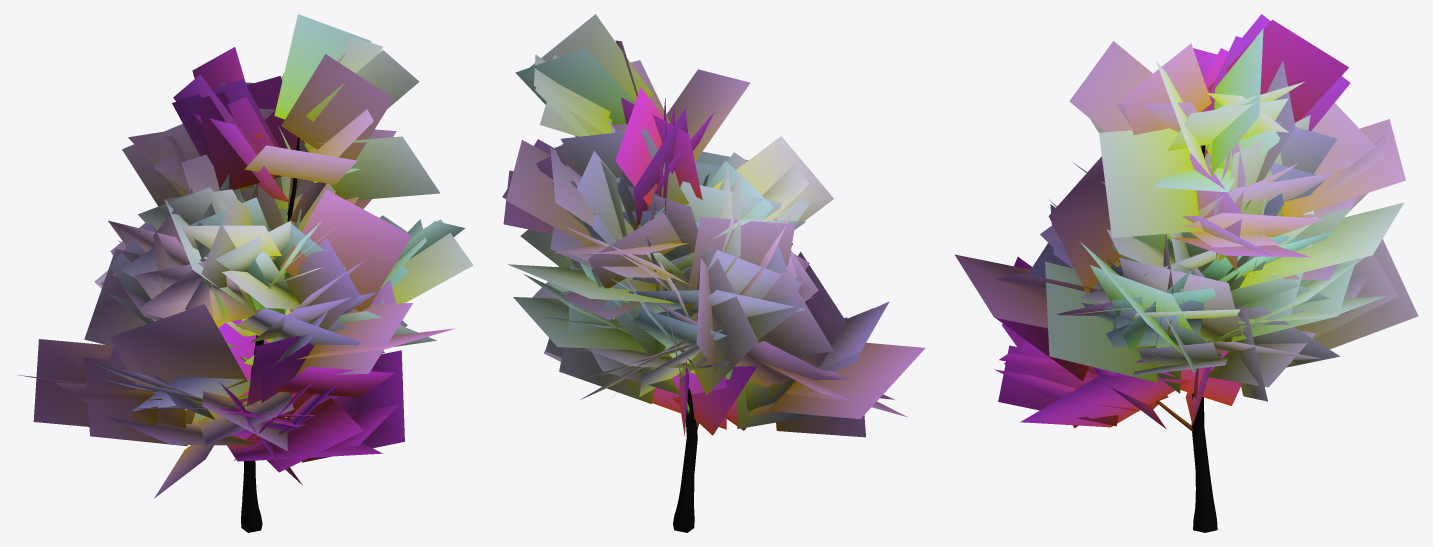
The model's file is tree_ginkgo_a_lod1.glb.
The picture shows the model from 3 angles, left to right: view 1: azimuth 30°, elevation 25°; view 2: azimuth 150°, elevation 25°; view 3: azimuth 270°, elevation 25°; orthographic projection. The views are drawn at different scales.
Visible parts, largest first — view 1: tree_ginkgo_a_lod1; view 2: tree_ginkgo_a_lod1; view 3: tree_ginkgo_a_lod1.
Boxes of the visible parts, left/top/right/bottom form: tree_ginkgo_a_lod1: left=17, top=14, right=473, bottom=532; tree_ginkgo_a_lod1: left=502, top=14, right=925, bottom=532; tree_ginkgo_a_lod1: left=954, top=14, right=1418, bottom=532.
Bounding box in the file's own units: 14.08 × 15.75 × 12.25.
